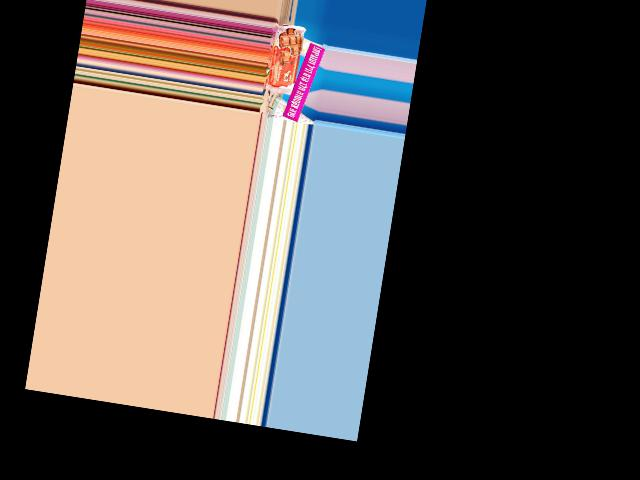chocolate: (264, 20, 307, 97)
